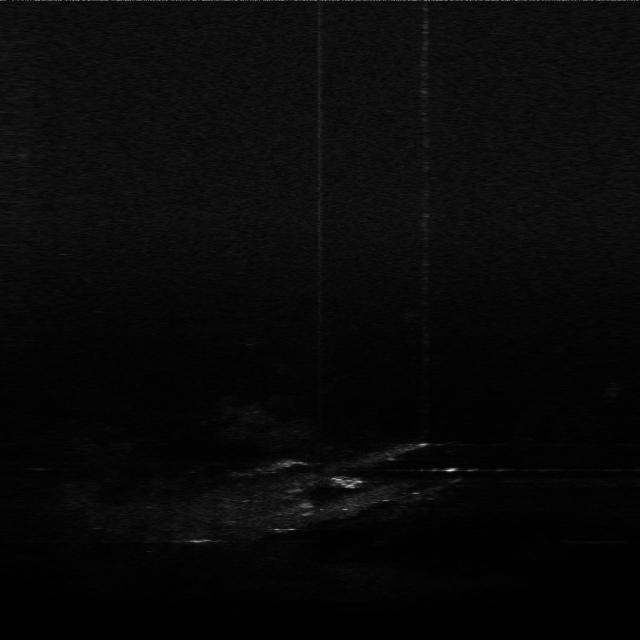rov: (329, 472, 368, 491)
